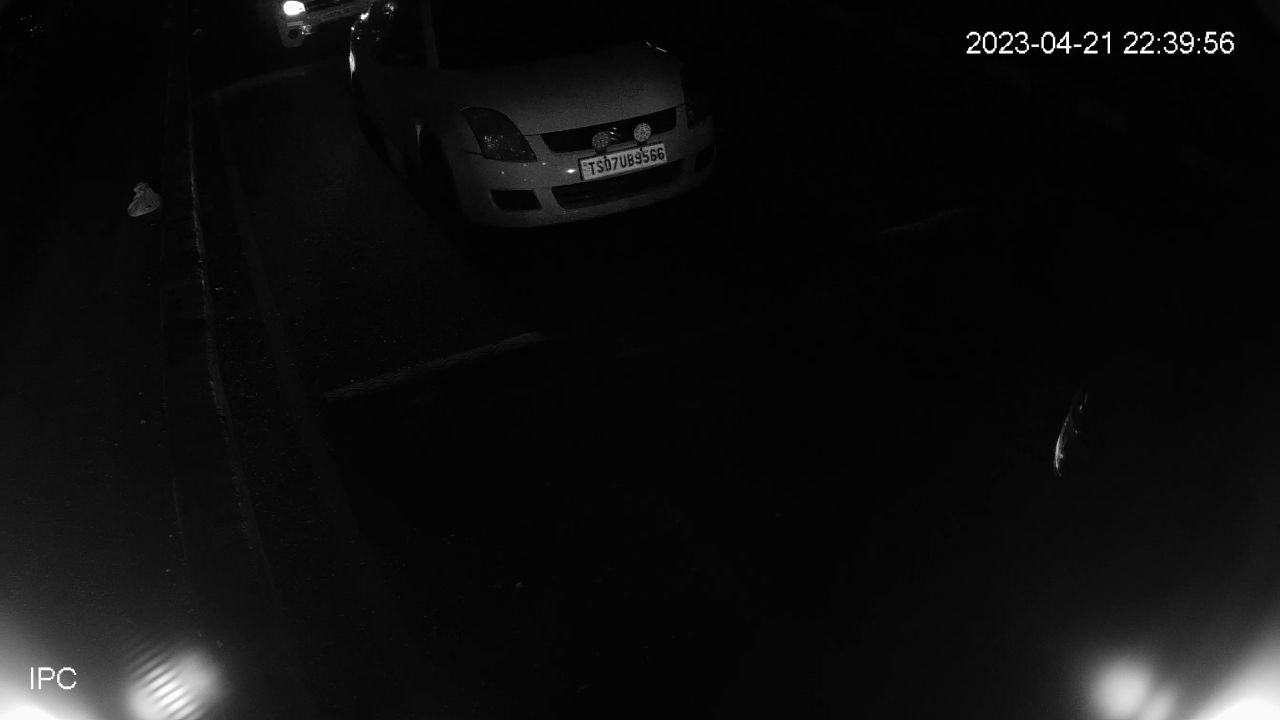license_plate: (575, 139, 678, 187)
